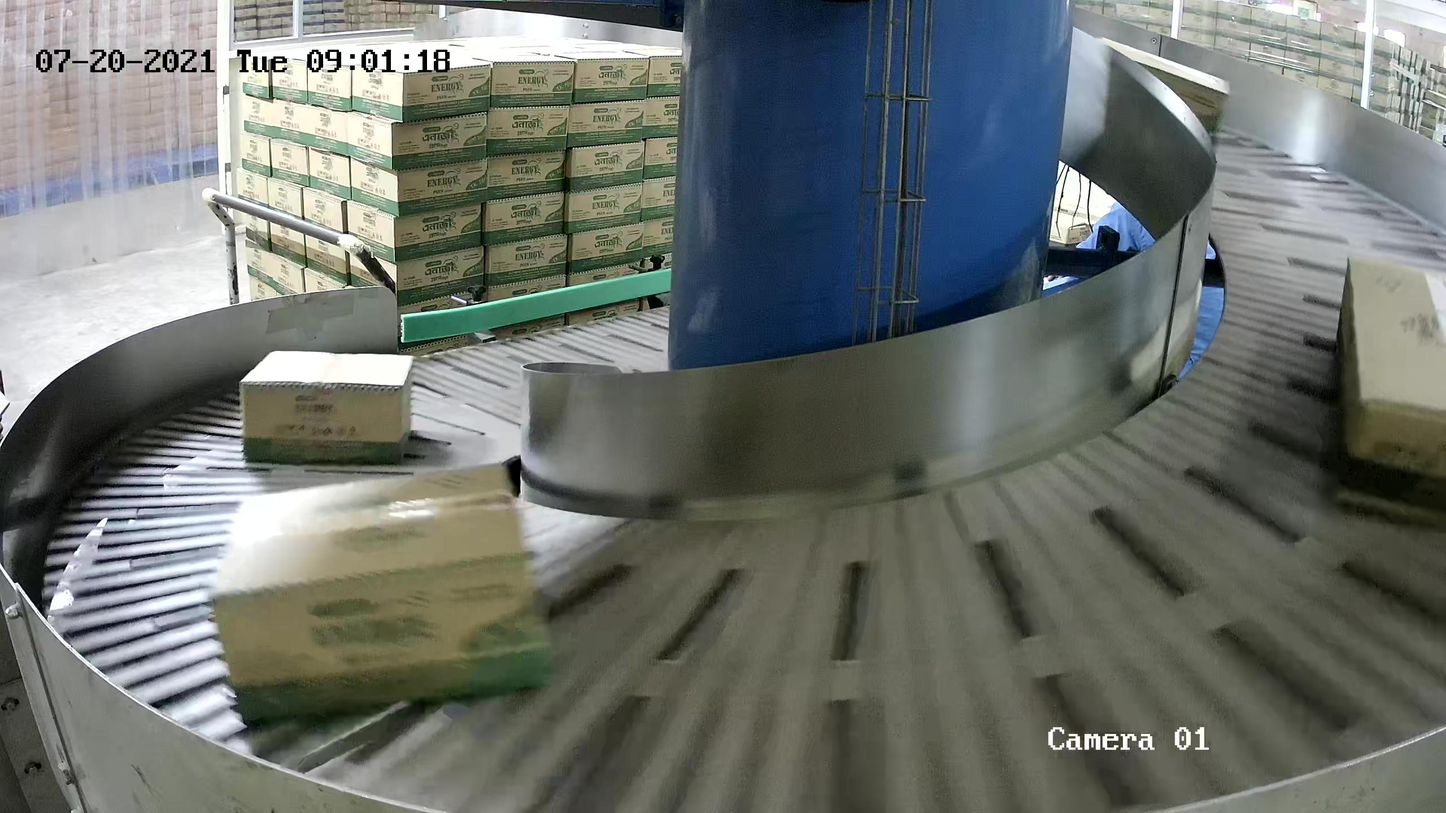Box: (208, 458, 558, 728), (1334, 253, 1446, 528), (238, 348, 414, 463)
